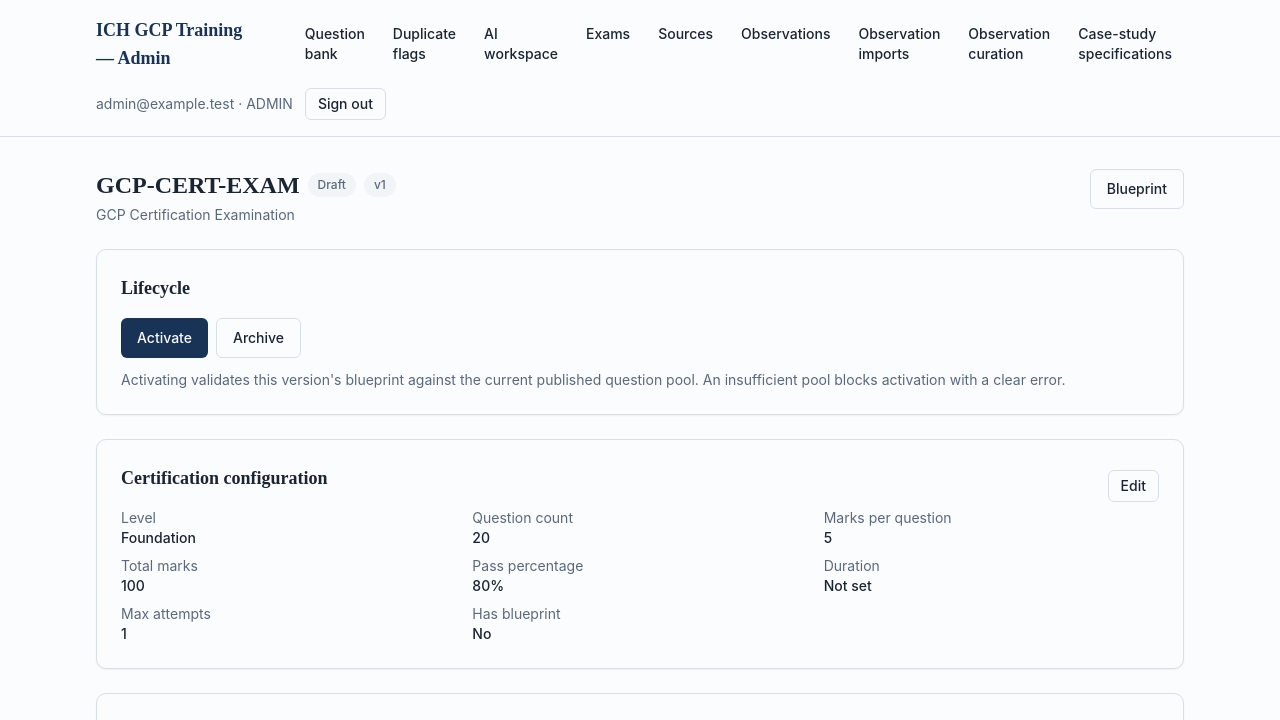
Test case: Exam detail page › surfaces a blueprint-validation failure as an inline error on activation
Click the button "Activate": (164, 338) [121,318,208,358]
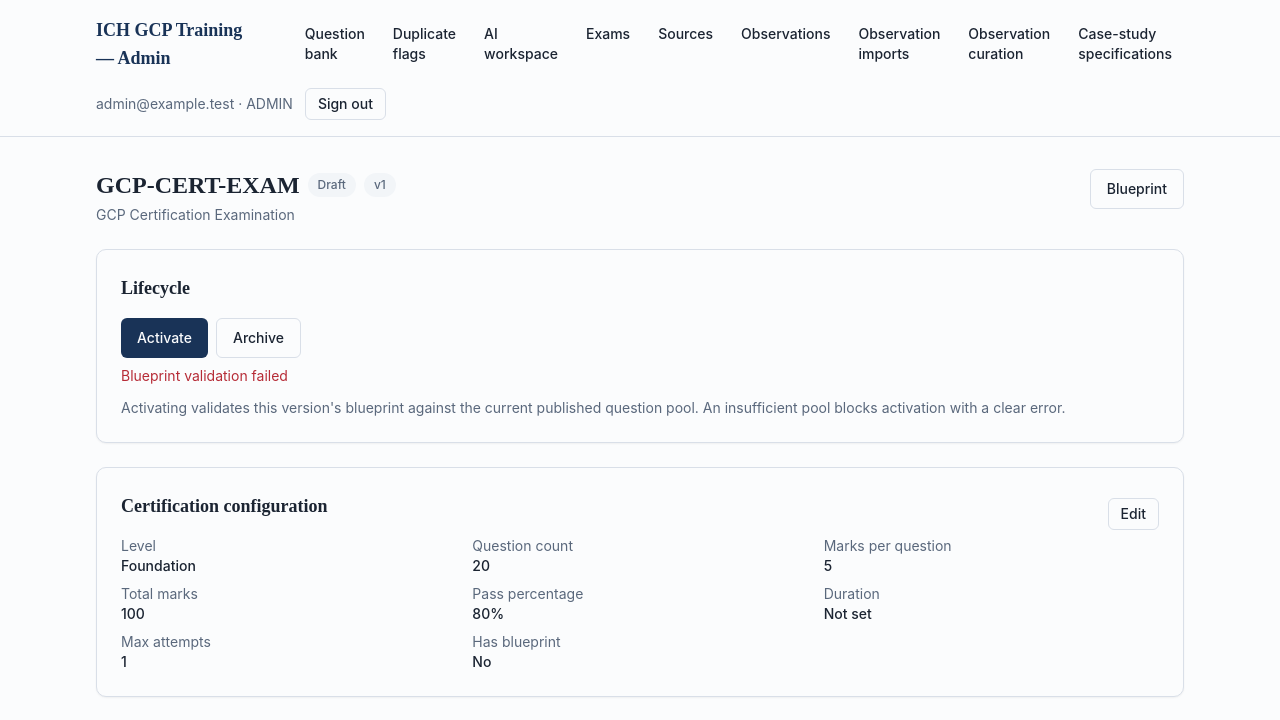
Expected: the text "Blueprint validation failed" is shown, [121,367,288,384]
